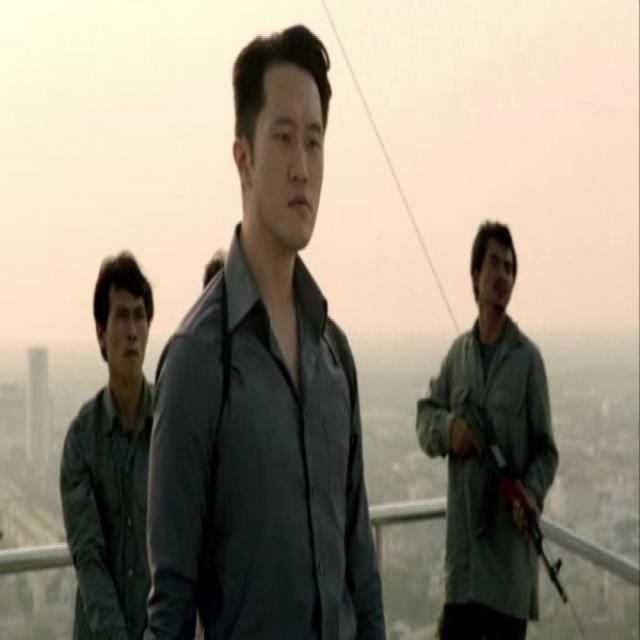rifle: (466, 405, 575, 611)
